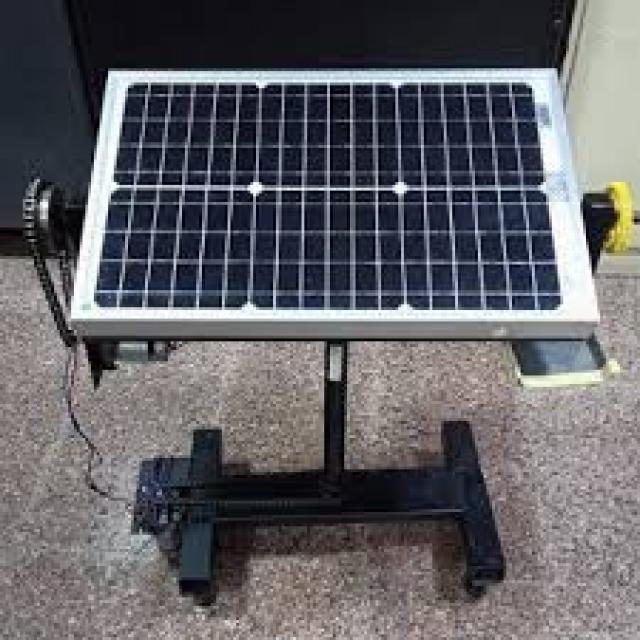no faulty: (87, 72, 564, 318)
